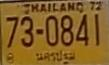0: (45, 15, 58, 46)
1: (94, 13, 99, 46)
3: (20, 16, 33, 46)
4: (75, 13, 88, 46)
7: (5, 16, 18, 47)
8: (60, 14, 73, 45)
NPT: (35, 50, 76, 65)
